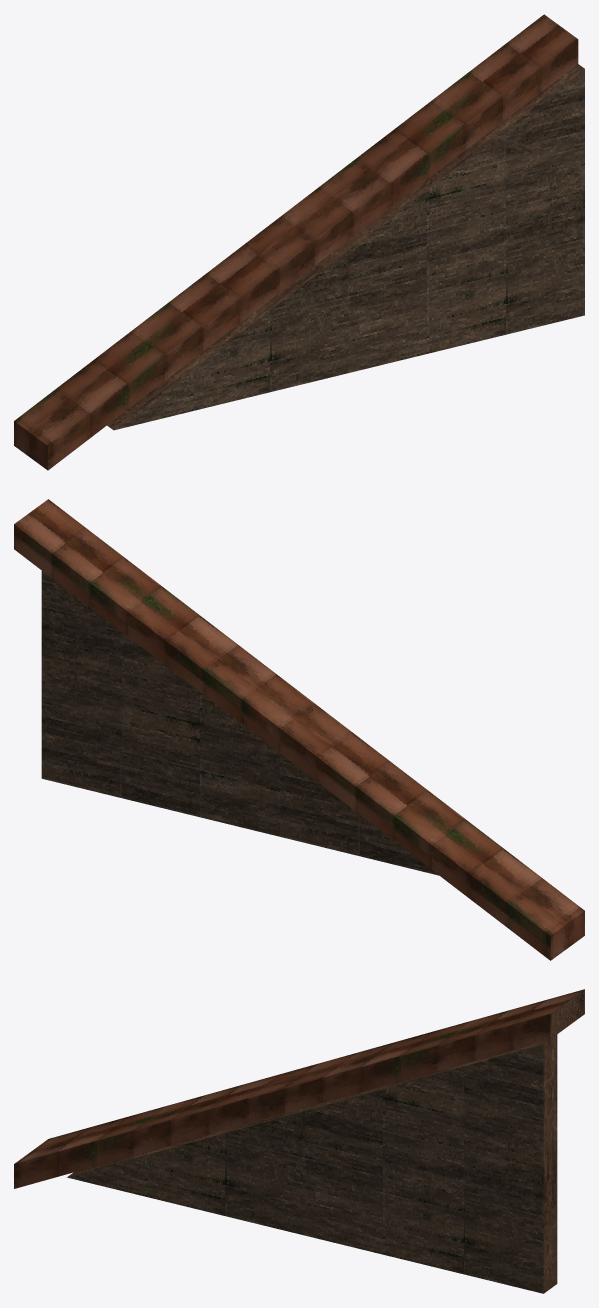
Rendered from roof_03_L.glb.
3 renders of one model, top to bottom at view 1: azimuth 30°, elevation 25°; view 2: azimuth 150°, elevation 25°; view 3: azimuth 330°, elevation 25°, orthographic.
Parts seen in each view (by area): view 1: roof_03_L2; view 2: roof_03_L2; view 3: roof_03_L2.
Part boxes in pixels (x1=…): roof_03_L2: x1=14, y1=14, x2=584, y2=470; roof_03_L2: x1=14, y1=499, x2=584, y2=960; roof_03_L2: x1=14, y1=989, x2=584, y2=1293.
Bounding box in the file's own units: 4.5 × 2.45 × 0.6.
1 material, 1 textured.
